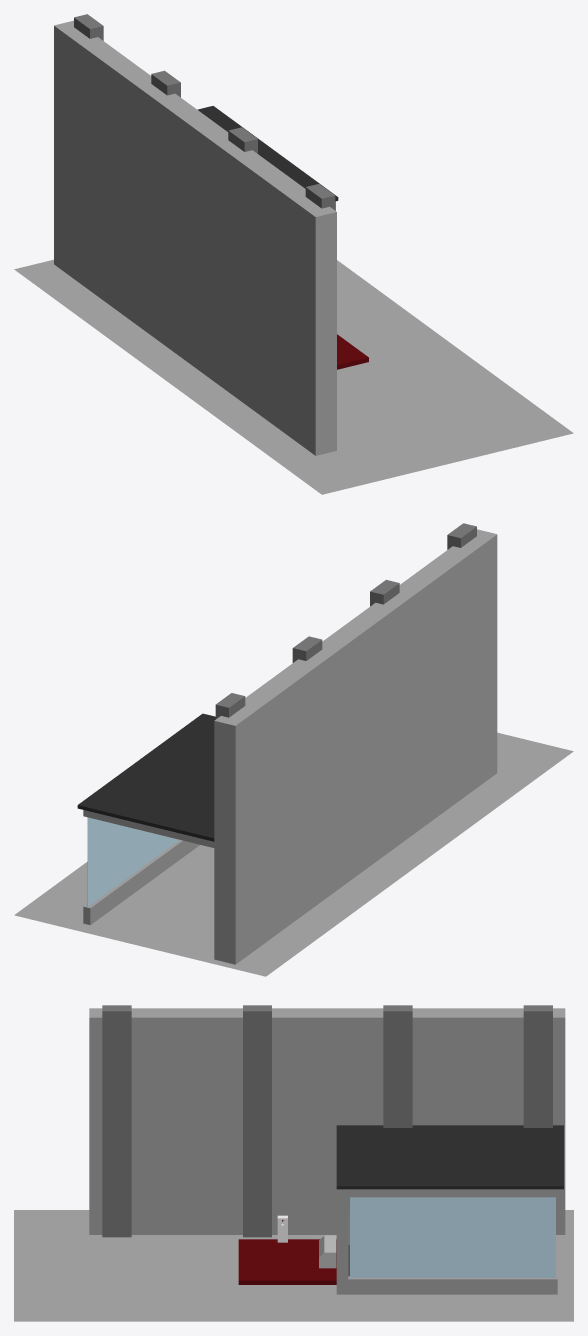
File: asset_ascensor.fbx
3 renders of one model, top to bottom at view 1: azimuth 30°, elevation 25°; view 2: azimuth 150°, elevation 25°; view 3: azimuth 270°, elevation 25°, orthographic. The views are drawn at different scales.
Parts seen in each view (by area): view 1: pared, suelo, columnas, cabina ascensor, elevador; view 2: pared, suelo, cabina ascensor, columnas; view 3: pared, cabina ascensor, suelo, columnas, elevador, caja ascensor_2.
Part boxes in pixels (x1,y1,x2,y2): pared: (54,20,336,455); suelo: (14,259,573,494); columnas: (74,14,335,210); cabina ascensor: (197,106,338,210); elevador: (337,334,368,369); pared: (214,529,497,964); suelo: (14,732,573,976); cabina ascensor: (77,713,215,925); columnas: (215,523,476,719); pared: (89,1008,565,1234); cabina ascensor: (336,1125,563,1294); suelo: (14,1210,573,1321); columnas: (102,1005,552,1237); elevador: (238,1239,336,1284); caja ascensor_2: (319,1235,336,1268).
Size of the model in its own units: 753 by 722 by 1594.
